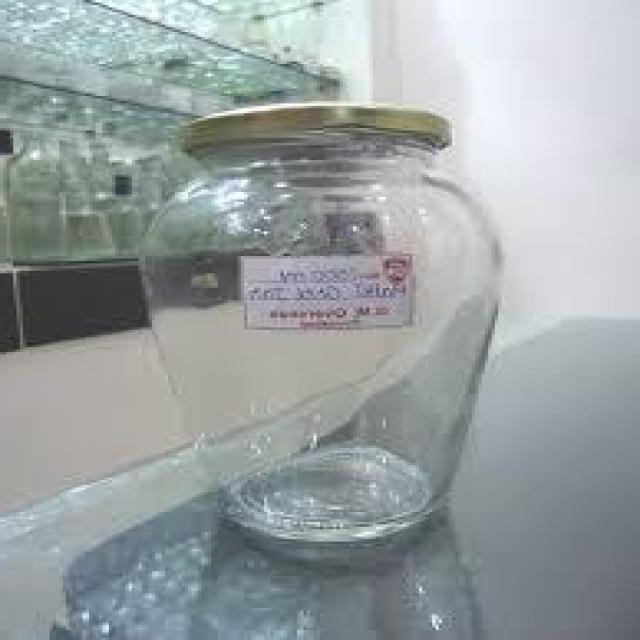glass: (138, 99, 512, 556)
